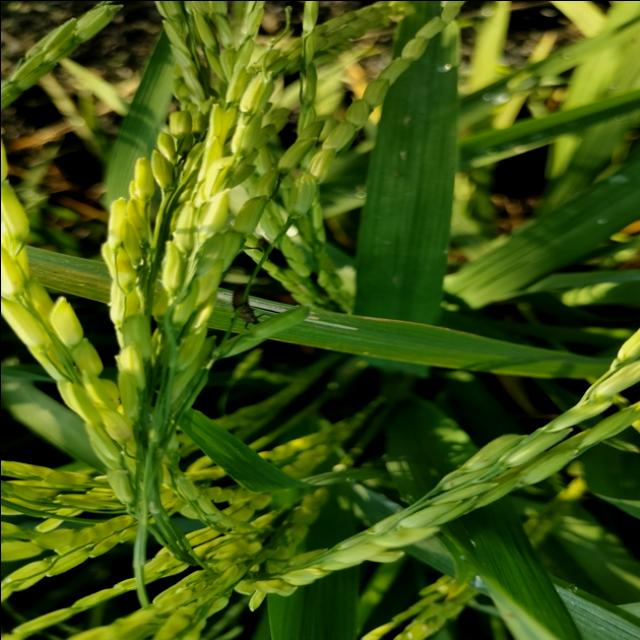Hama Putih Palsu: (213, 290, 354, 320)
